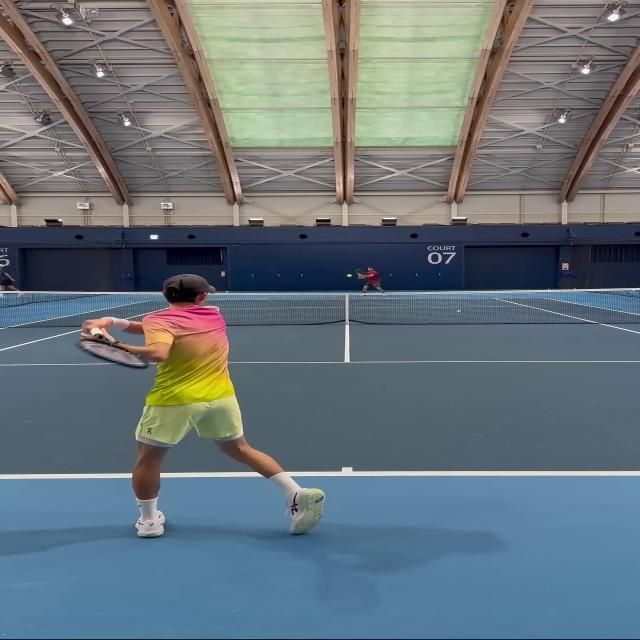tennis_ball: (348, 275, 351, 277)
